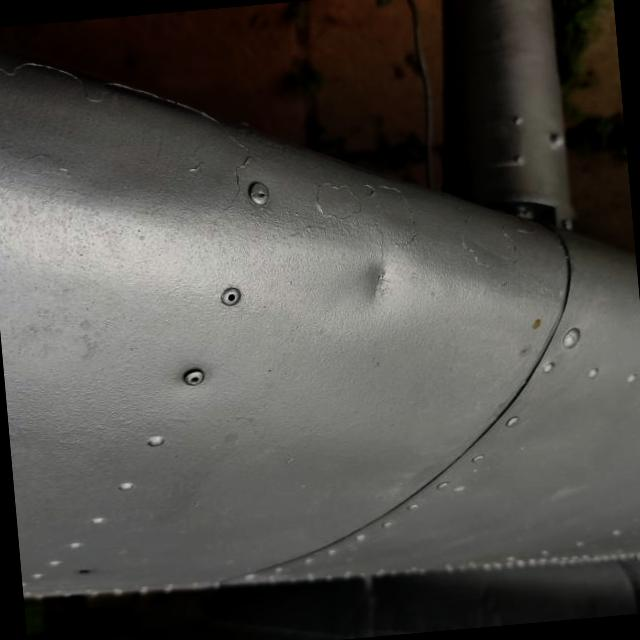dent: (319, 226, 442, 338)
